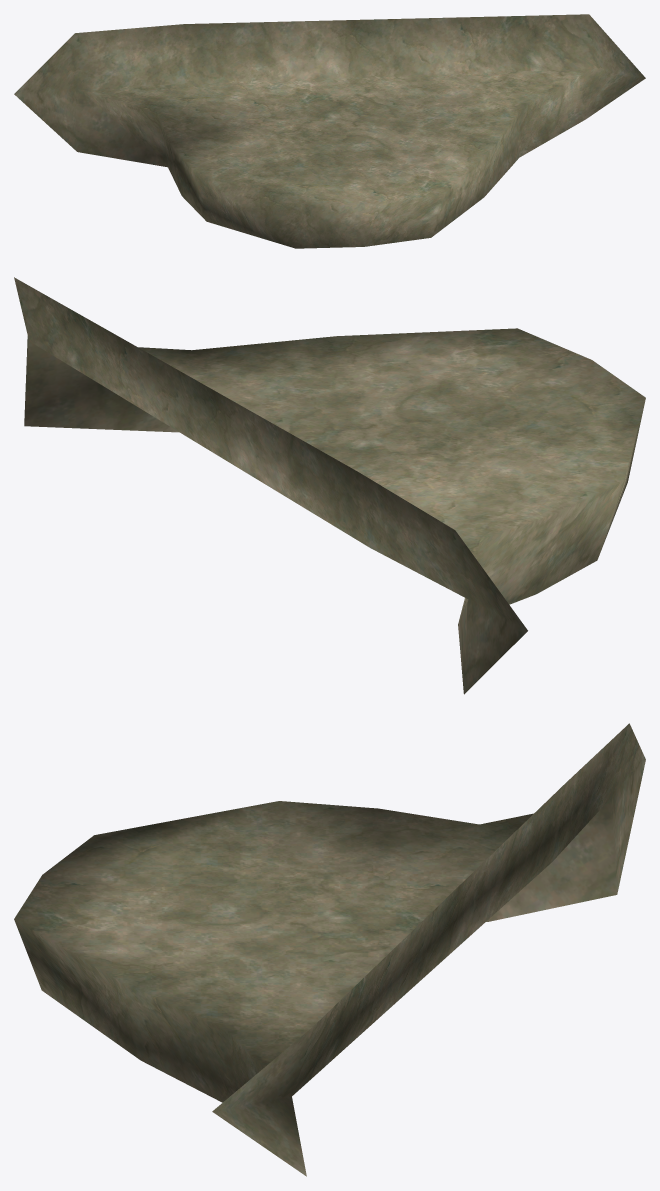
File: OVERHILL_A_01_OBJECT208.fbx
3 renders of one model, top to bottom at view 1: azimuth 30°, elevation 25°; view 2: azimuth 150°, elevation 25°; view 3: azimuth 270°, elevation 25°, orthographic. The views are drawn at different scales.
Visible parts, largest first — view 1: OVERHILL_A_01_OBJECT208; view 2: OVERHILL_A_01_OBJECT208; view 3: OVERHILL_A_01_OBJECT208.
Boxes of the visible parts, left/top/right/bottom form: OVERHILL_A_01_OBJECT208: left=14, top=14, right=645, bottom=248; OVERHILL_A_01_OBJECT208: left=14, top=277, right=645, bottom=694; OVERHILL_A_01_OBJECT208: left=14, top=723, right=645, bottom=1176.
Bounding box in the file's own units: 47309 × 11002 × 35455.
Materials: 1 (1 with a texture image).
